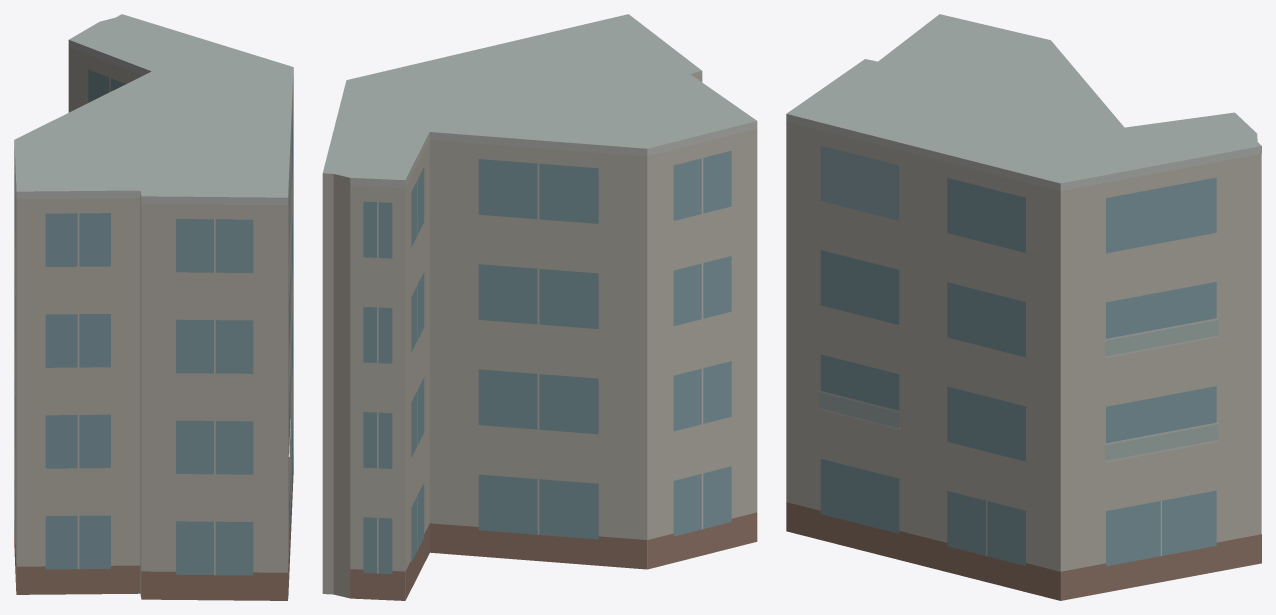
Rendered from survey-upis-32464678.glb.
The picture shows the model from 3 angles, left to right: view 1: azimuth 30°, elevation 25°; view 2: azimuth 150°, elevation 25°; view 3: azimuth 270°, elevation 25°; orthographic projection. The views are drawn at different scales.
Parts seen in each view (by area): view 1: survey-upis-32464678.tmp; view 2: survey-upis-32464678.tmp; view 3: survey-upis-32464678.tmp.
Part boxes in pixels (x1,y1,x2,y2): survey-upis-32464678.tmp: [14, 14, 293, 600]; survey-upis-32464678.tmp: [322, 14, 757, 600]; survey-upis-32464678.tmp: [786, 14, 1261, 600].
Bounding box in the file's own units: 11.55 × 13.25 × 13.69.
